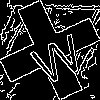W: (25, 25, 88, 87)
